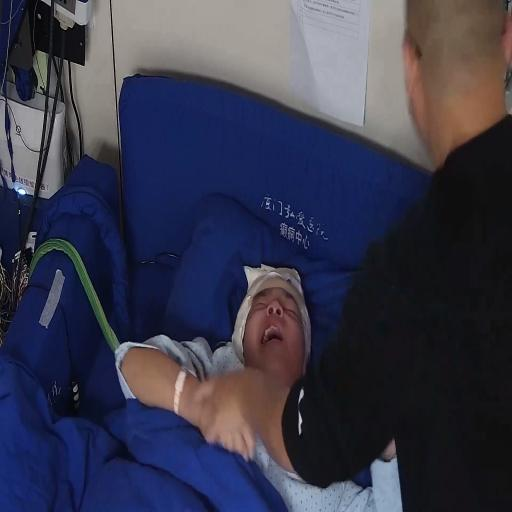Seizure: (252, 267, 325, 408)
